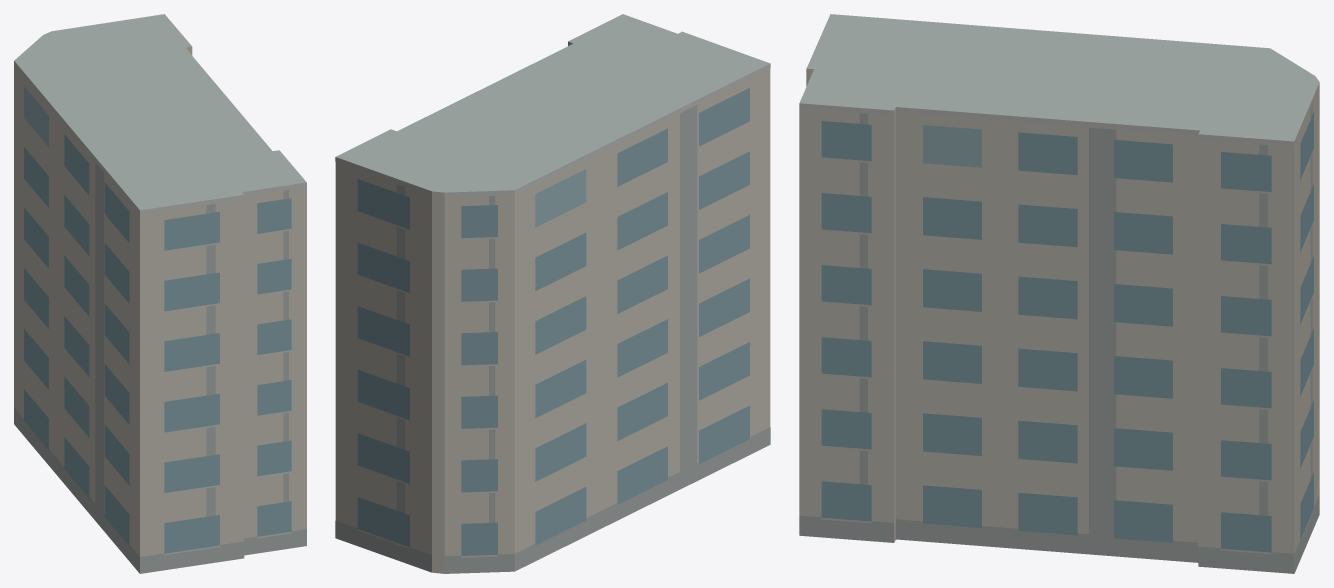
The model's file is survey-upis-33045070.glb.
3 renders of one model, left to right at view 1: azimuth 30°, elevation 25°; view 2: azimuth 150°, elevation 25°; view 3: azimuth 270°, elevation 25°, orthographic. The views are drawn at different scales.
Parts seen in each view (by area): view 1: survey-upis-33045070.tmp; view 2: survey-upis-33045070.tmp; view 3: survey-upis-33045070.tmp.
Part boxes in pixels (x1=…): survey-upis-33045070.tmp: x1=14, y1=14, x2=306, y2=573; survey-upis-33045070.tmp: x1=335, y1=14, x2=770, y2=573; survey-upis-33045070.tmp: x1=799, y1=14, x2=1319, y2=573.
Size of the model in its own units: 11.83 by 18.7 by 20.4.
